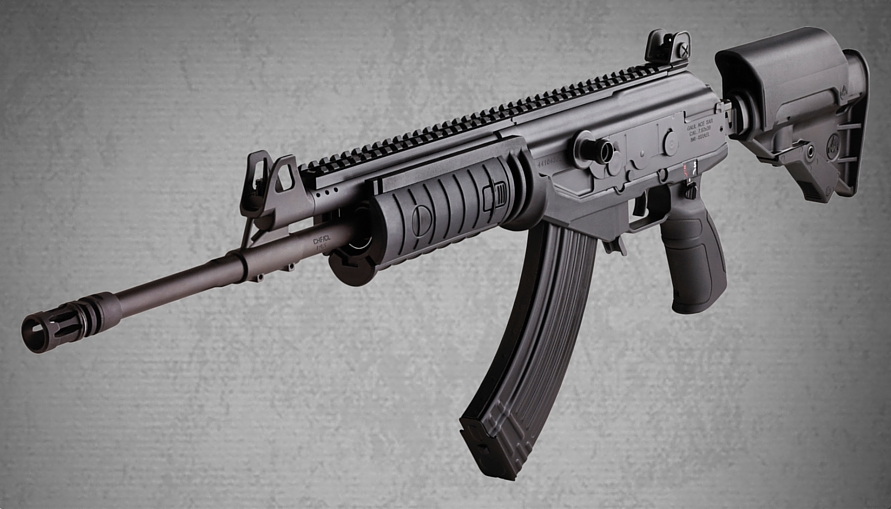Rifle: (13, 24, 869, 487)
